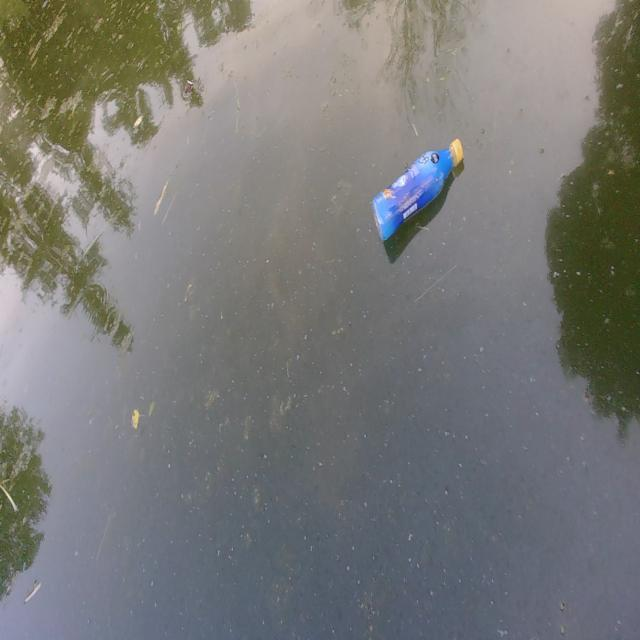bottle: (359, 115, 477, 263)
